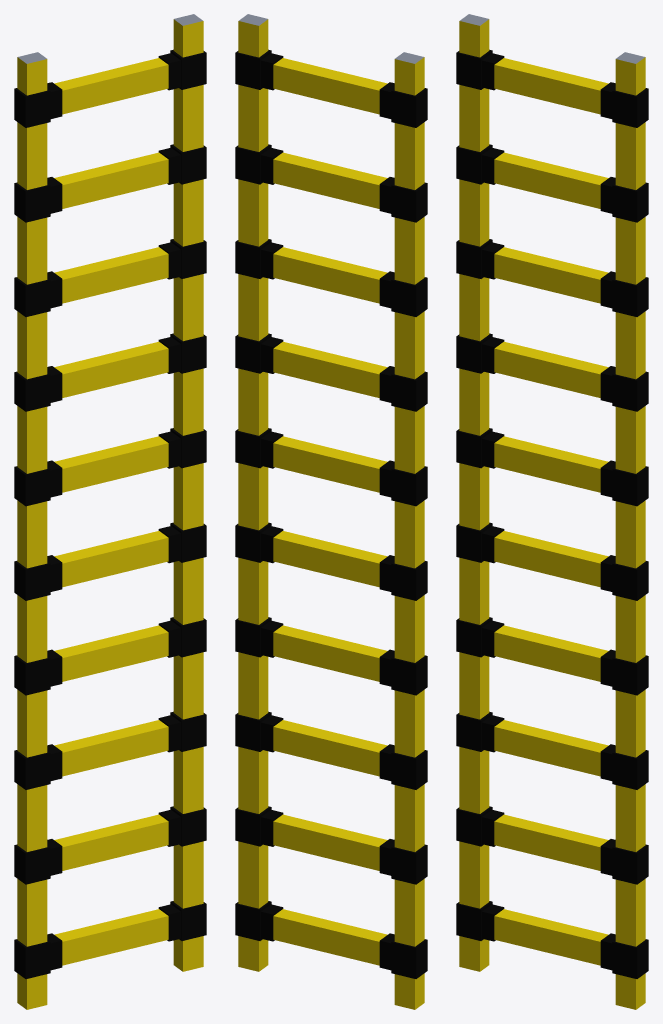
File: Ladder_Short.fbx
The picture shows the model from 3 angles, left to right: view 1: azimuth 30°, elevation 25°; view 2: azimuth 150°, elevation 25°; view 3: azimuth 330°, elevation 25°; orthographic projection.
Visible parts, largest first — view 1: pCube160; view 2: pCube160; view 3: pCube160.
Boxes of the visible parts, x1=… form: pCube160: x1=14, y1=14, x2=206, y2=1009; pCube160: x1=235, y1=14, x2=427, y2=1009; pCube160: x1=456, y1=14, x2=648, y2=1009.
Bounding box in the file's own units: 0.6306 × 3.15 × 0.0692.
